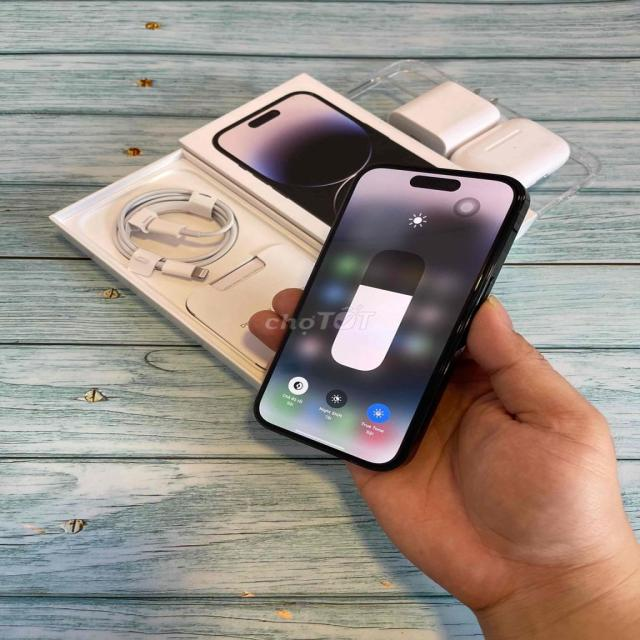gen_14: (247, 154, 527, 468)
